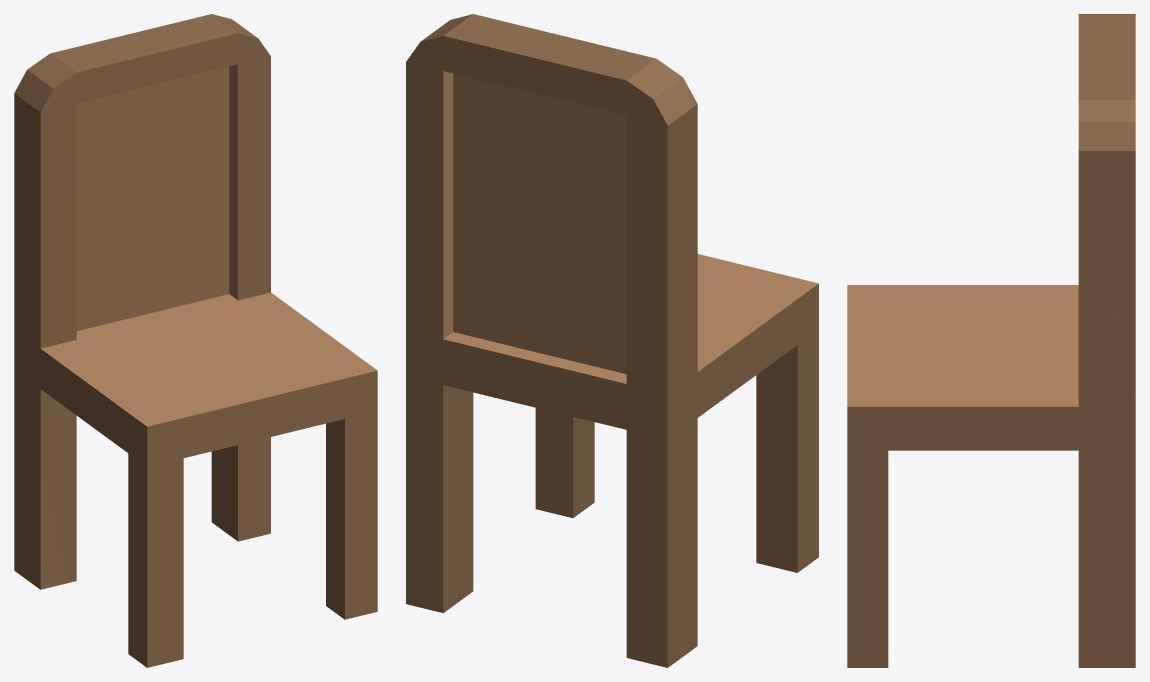
Rendered from furniture3.fbx.
3 views of the same model, side by side, from view 1: azimuth 30°, elevation 25°; view 2: azimuth 150°, elevation 25°; view 3: azimuth 270°, elevation 25° (orthographic). The views are drawn at different scales.
Visible parts, largest first — view 1: Cube; view 2: Cube; view 3: Cube.
Boxes of the visible parts, bbox=[...] form: Cube: bbox=[14, 14, 377, 667]; Cube: bbox=[406, 14, 818, 667]; Cube: bbox=[847, 14, 1135, 667].
Bounding box in the file's own units: 100 × 211 × 100.
